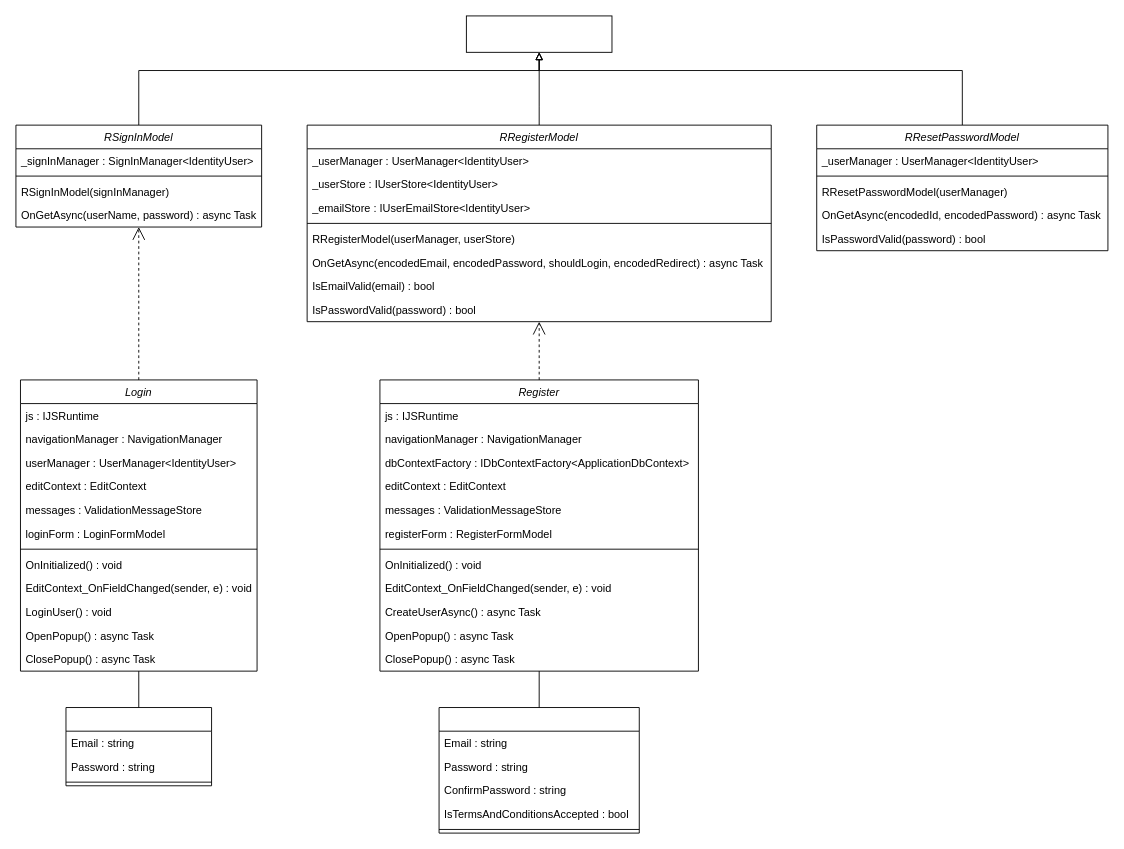
Image size: 1124x849. Some labels were removed from this diagram. The box of each missing label's shape, as (x1, y1, x2, y2) in pixels:
LoginFormModel: (65, 707, 212, 786)
PageModel: (465, 15, 612, 52)
RegisterFormModel: (438, 707, 639, 833)
